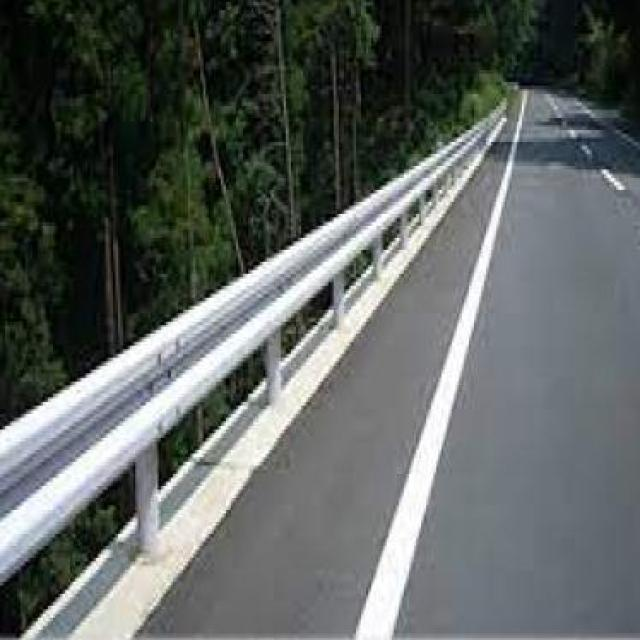Guard rail: (0, 96, 505, 635)
